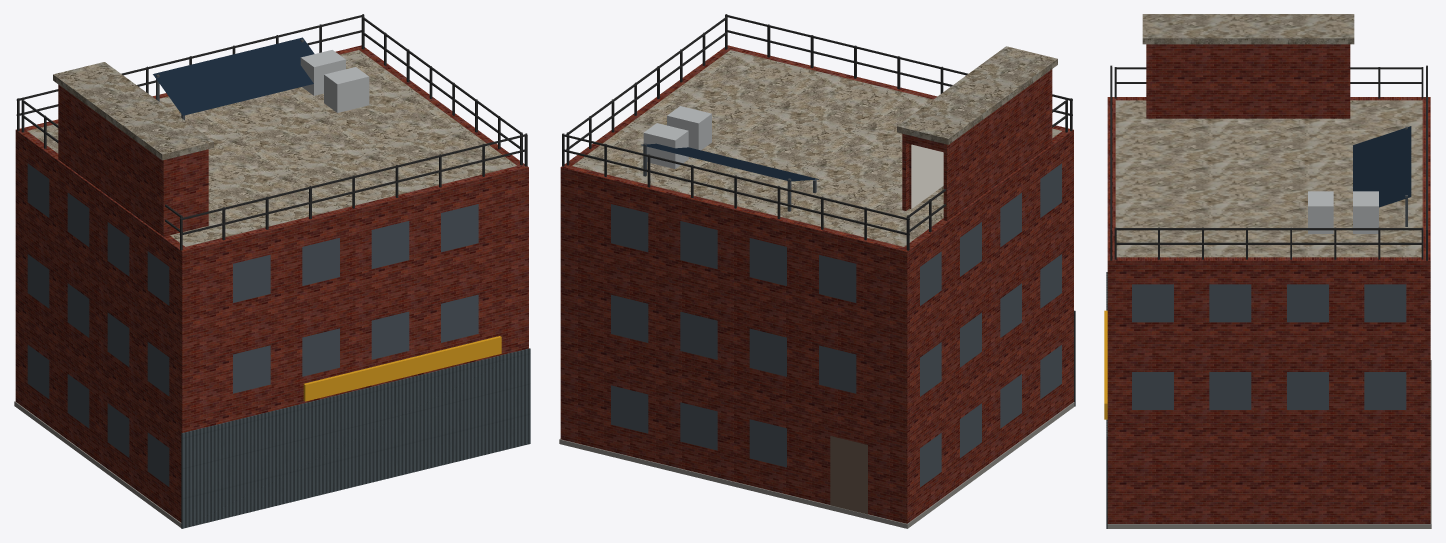
File: mh-garage-flats.zfix-v22.lod1.glb
3 renders of one model, left to right at view 1: azimuth 30°, elevation 25°; view 2: azimuth 150°, elevation 25°; view 3: azimuth 270°, elevation 25°, orthographic. The views are drawn at different scales.
Visible parts, largest first — view 1: mh-garage-flats; view 2: mh-garage-flats; view 3: mh-garage-flats.
Boxes of the visible parts, box(x1,y1,x2,y2) form: mh-garage-flats: box(14, 14, 530, 528); mh-garage-flats: box(559, 14, 1075, 528); mh-garage-flats: box(1104, 14, 1431, 528).
Bounding box in the file's own units: 12.11 × 11.95 × 10.13.
4 materials, 3 textured.
